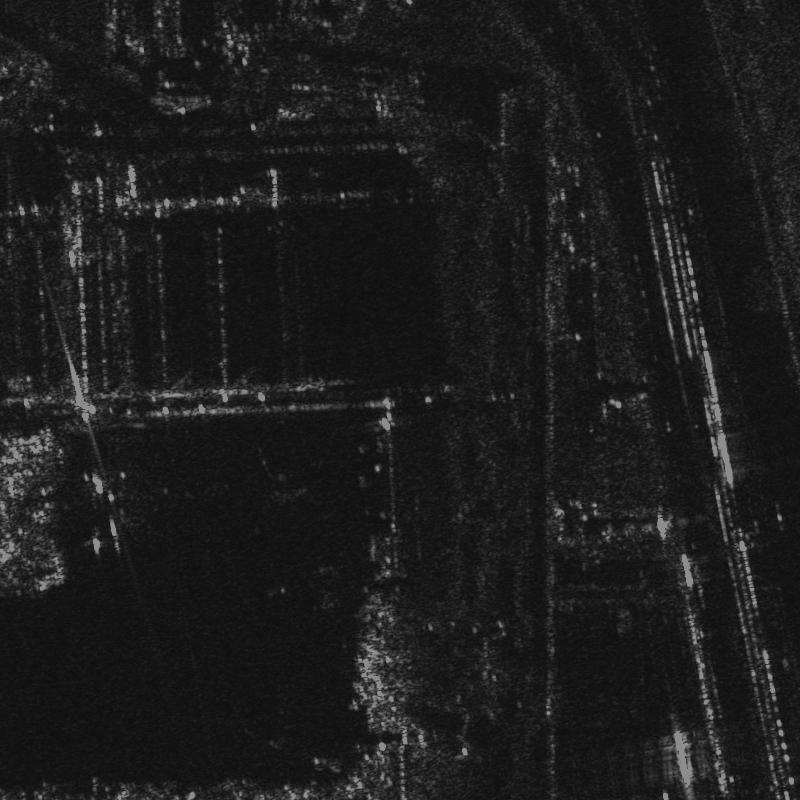Boeing737: (74, 454, 147, 561)
